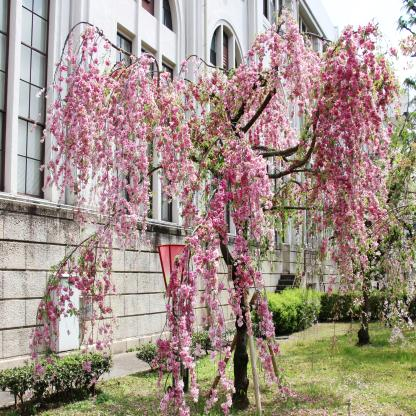YaeSakura: (28, 9, 390, 415), (332, 17, 395, 303), (379, 28, 416, 359)
